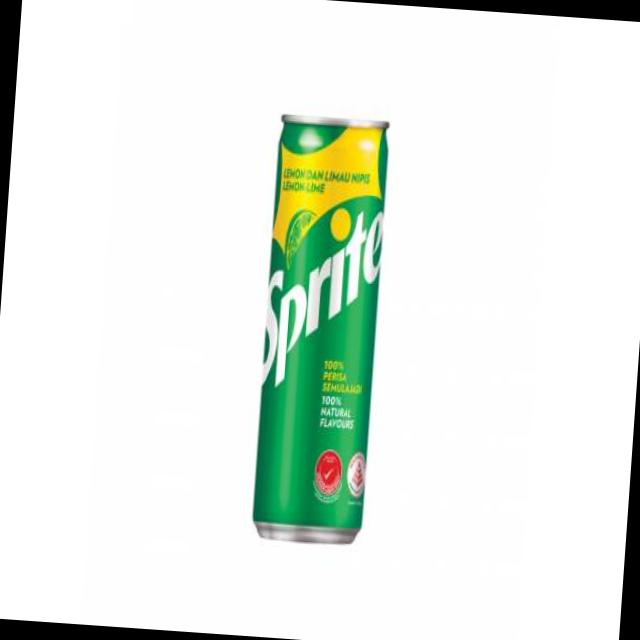sprite: (245, 91, 400, 554)
